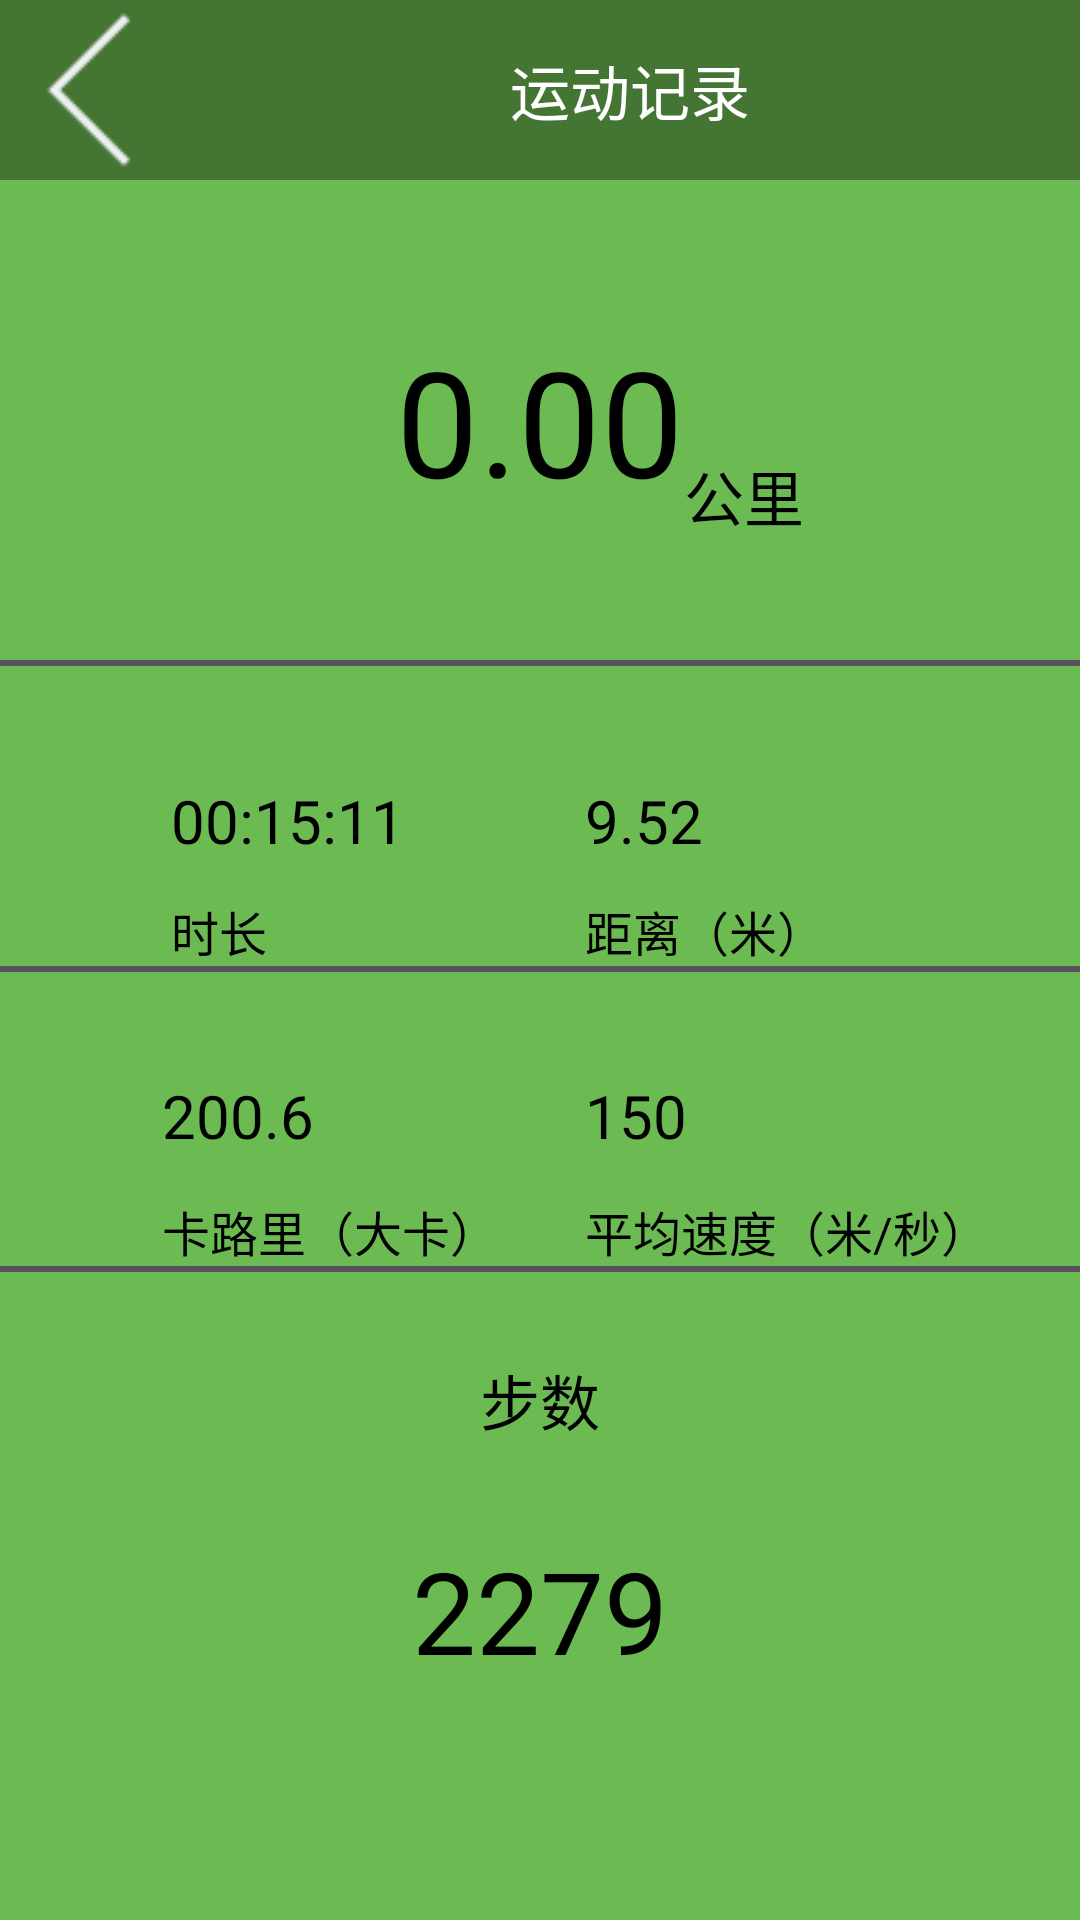

Icons on this 1080w x 1920h Android screen, each with its box as region(x1, y1, x2, y2):
jiantou: region(47, 14, 130, 166)
